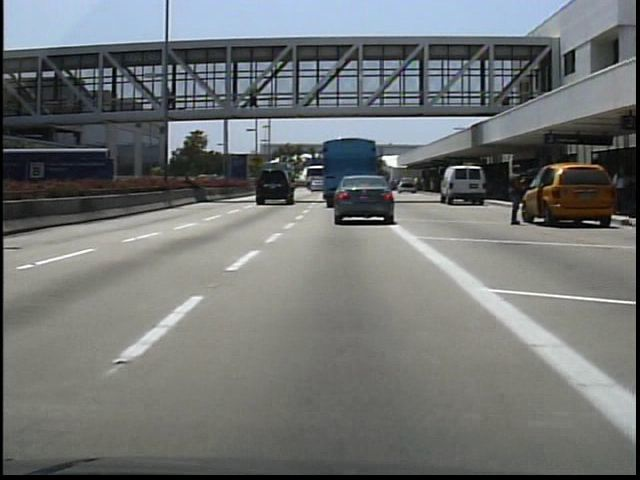person: (505, 163, 531, 227), (247, 84, 262, 116), (163, 86, 179, 113)
